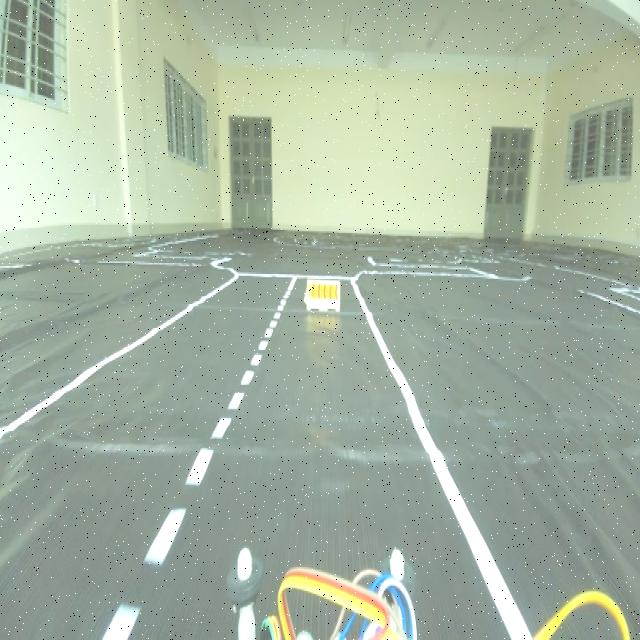roadblock: (294, 262, 347, 330)
